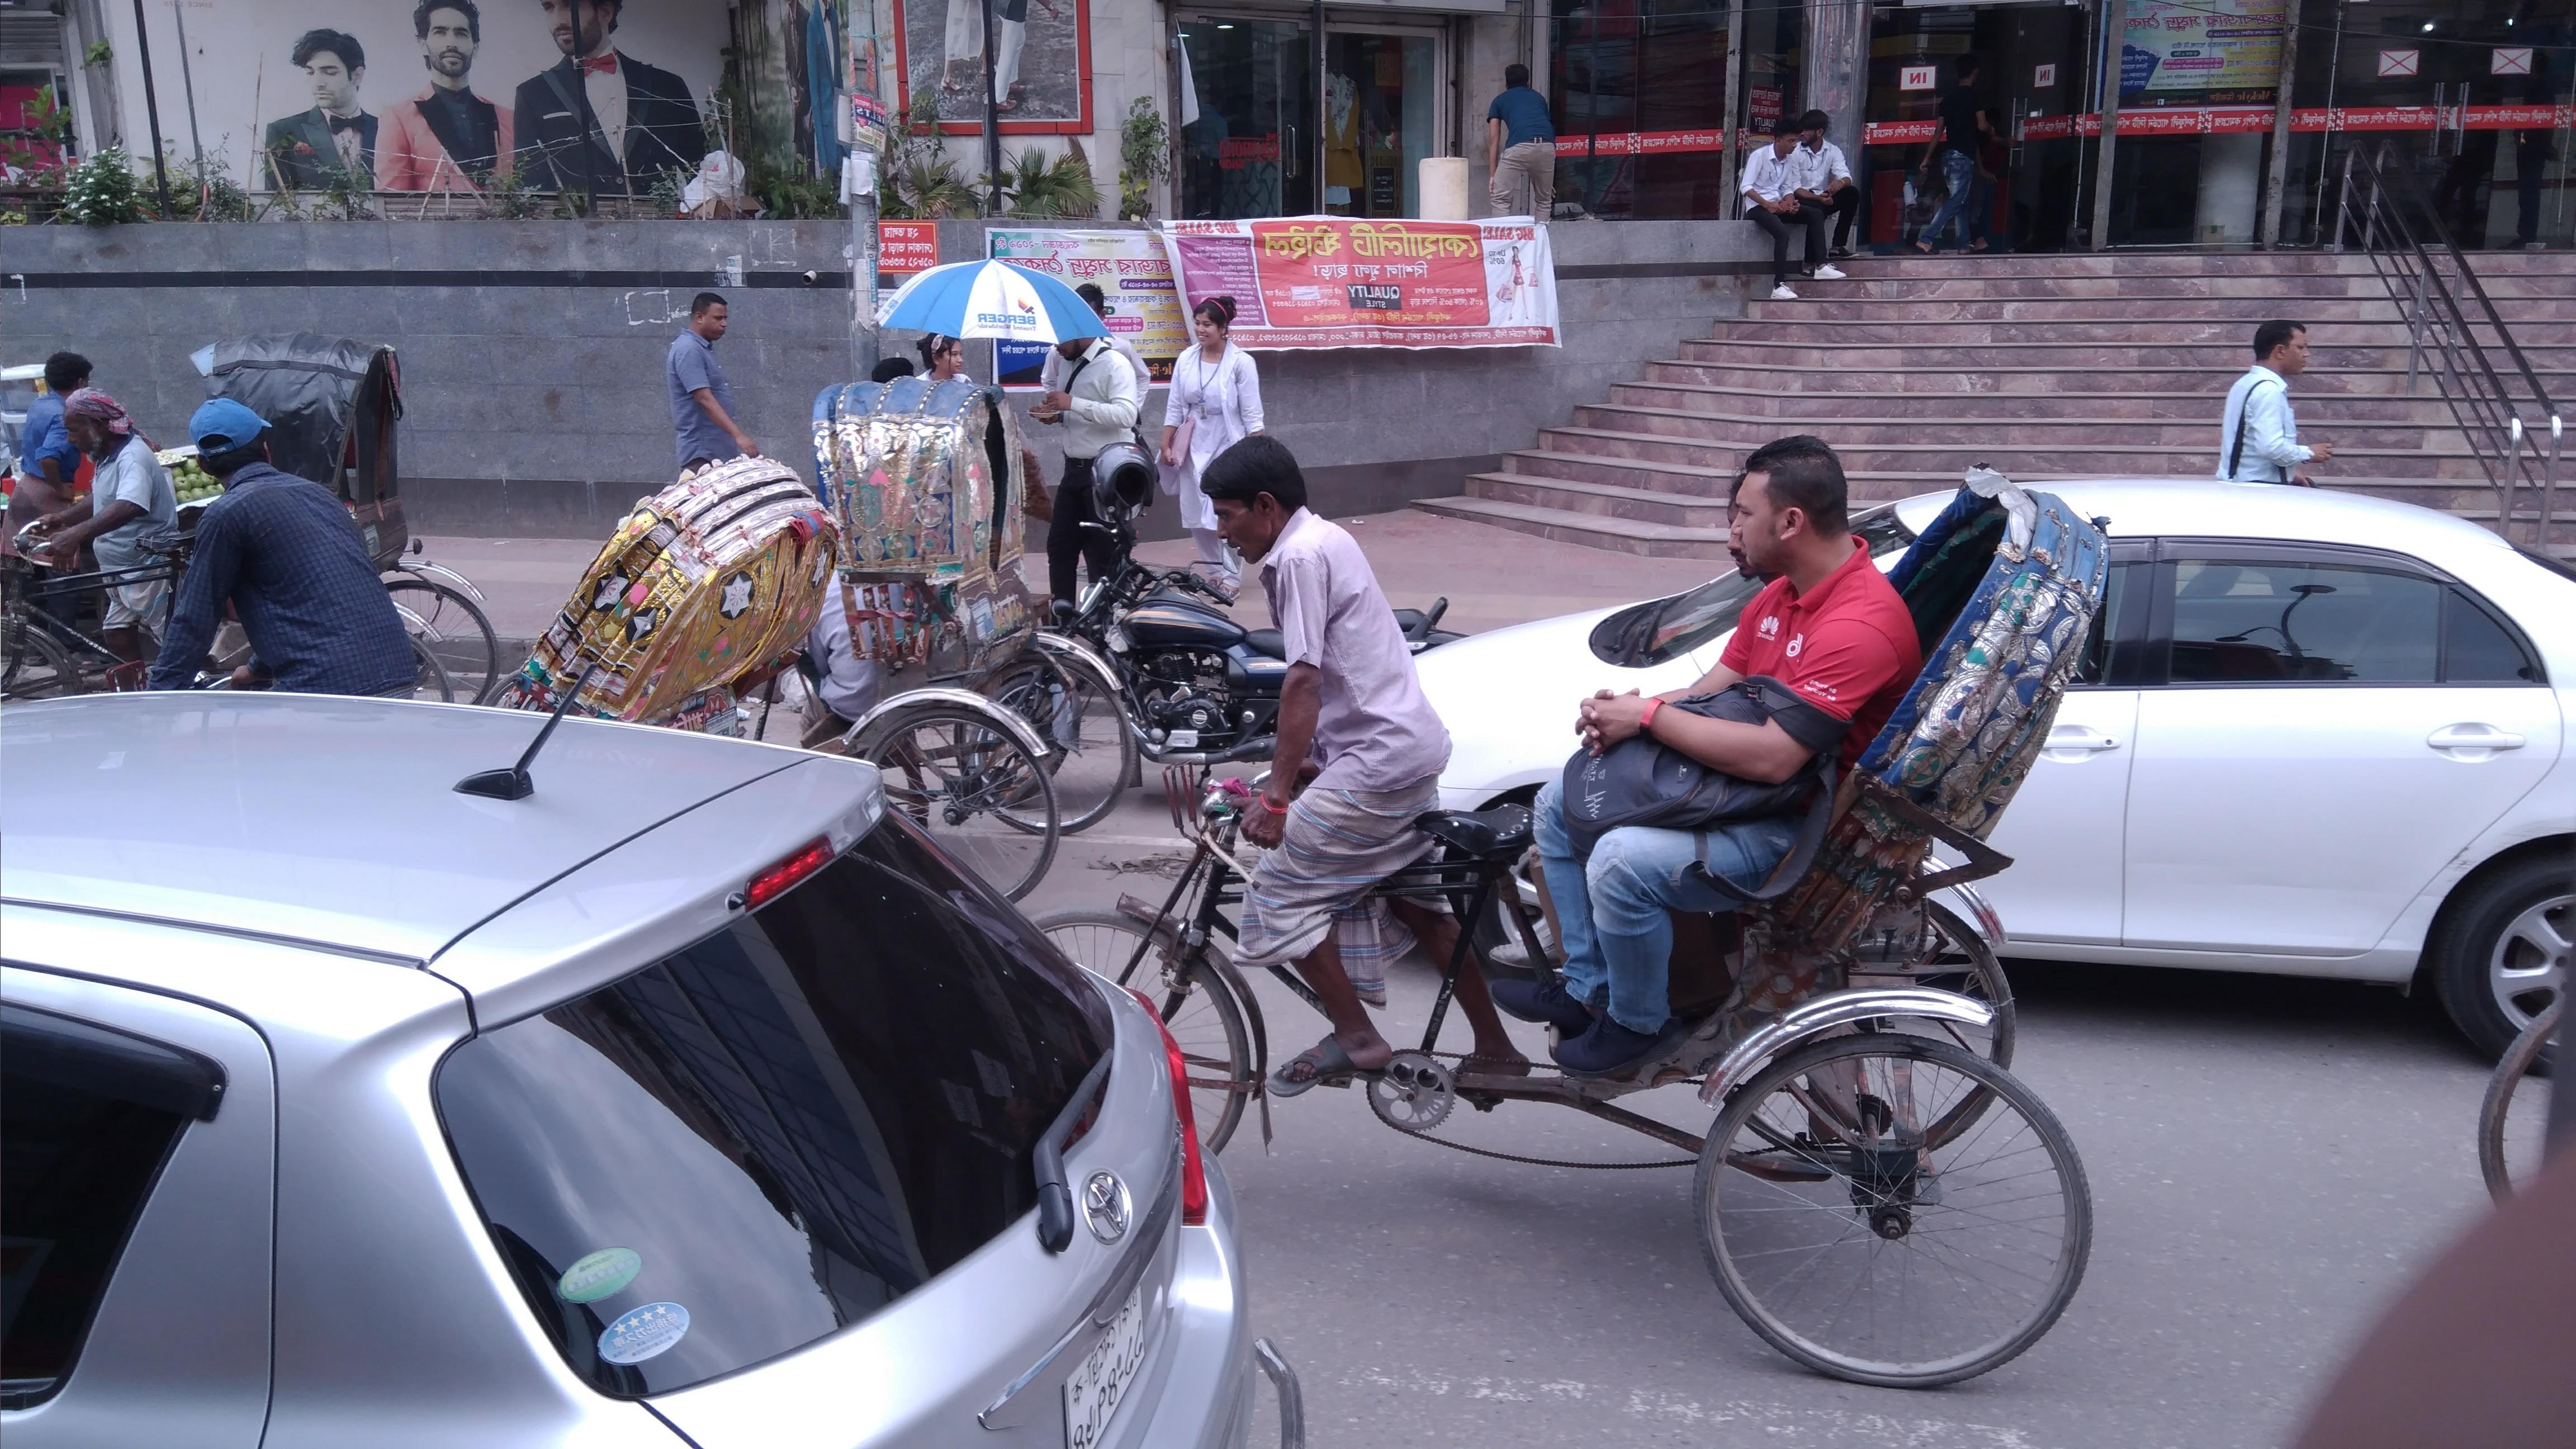Rickshaw: (1180, 326, 2079, 1394), (798, 331, 1132, 902), (490, 435, 832, 839), (156, 304, 426, 702)
